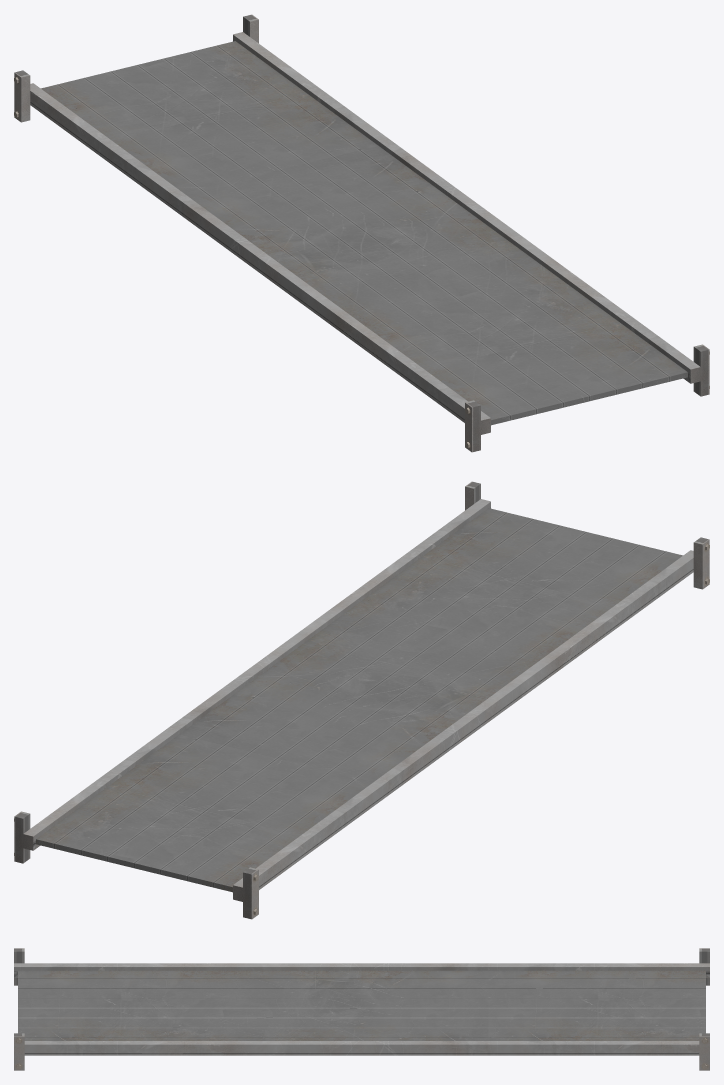
Rendered from SM_Rack02.fbx.
3 views of the same model, one above another, from view 1: azimuth 30°, elevation 25°; view 2: azimuth 150°, elevation 25°; view 3: azimuth 270°, elevation 25° (orthographic). The views are drawn at different scales.
Parts seen in each view (by area): view 1: SM_Rack02_LOD0; view 2: SM_Rack02_LOD0; view 3: SM_Rack02_LOD0.
Part boxes in pixels (x1=…): SM_Rack02_LOD0: x1=14, y1=14, x2=709, y2=452; SM_Rack02_LOD0: x1=14, y1=481, x2=709, y2=919; SM_Rack02_LOD0: x1=14, y1=948, x2=709, y2=1070.
Size of what is drawn, in the model's own units: 116 by 20.53 by 379.
